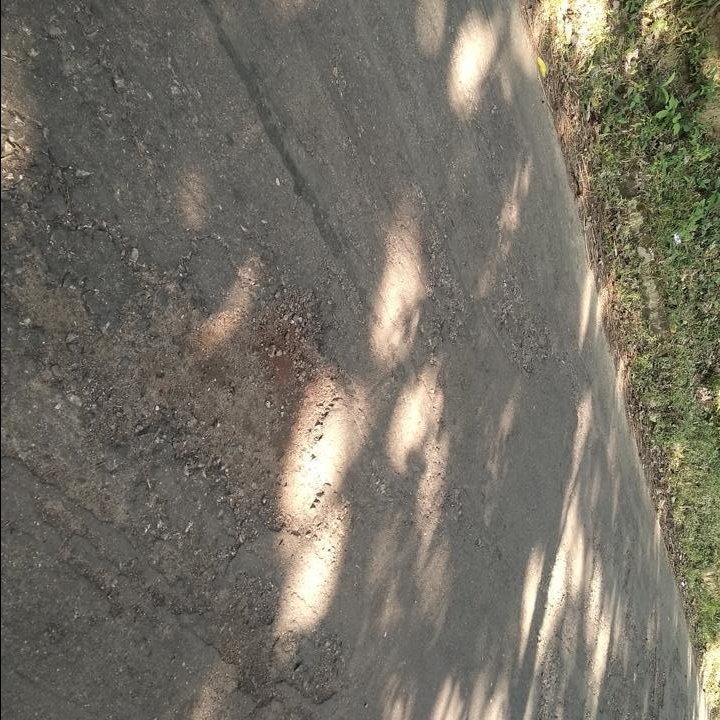pothole: (82, 277, 349, 535)
